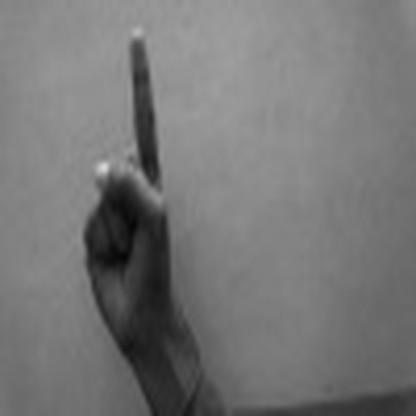d: (67, 24, 190, 351)
